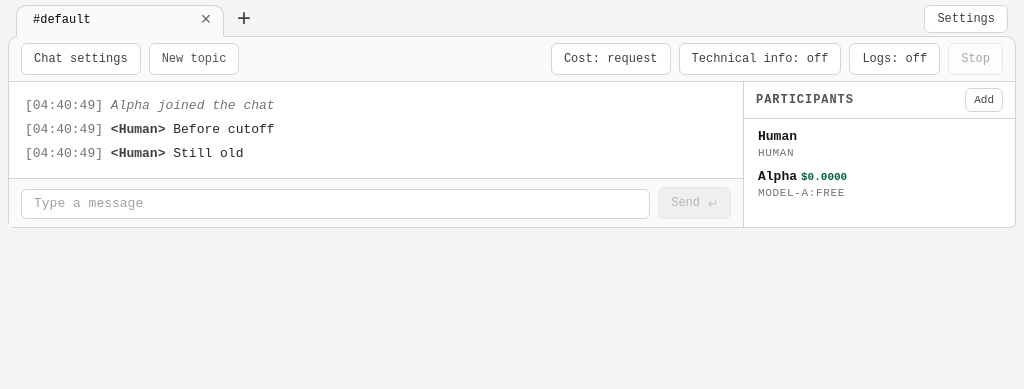
Test case: MultiAgentChat history controls › shows a manual cutoff banner and mutes older messages after reset
Click the button with class "toolbar-button" showing "Technical info: off".
click(760, 59)  # box [678,43,841,75]
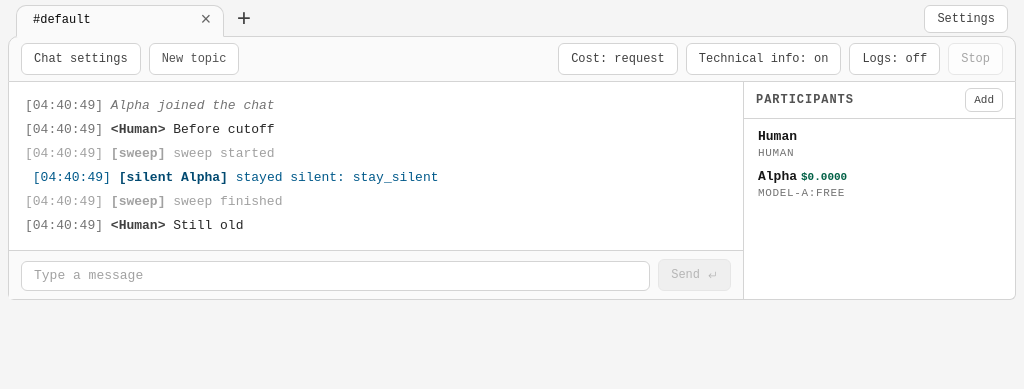
Click the button with class "toolbar-button" showing "New topic".
click(194, 59)  # box [149,43,239,75]
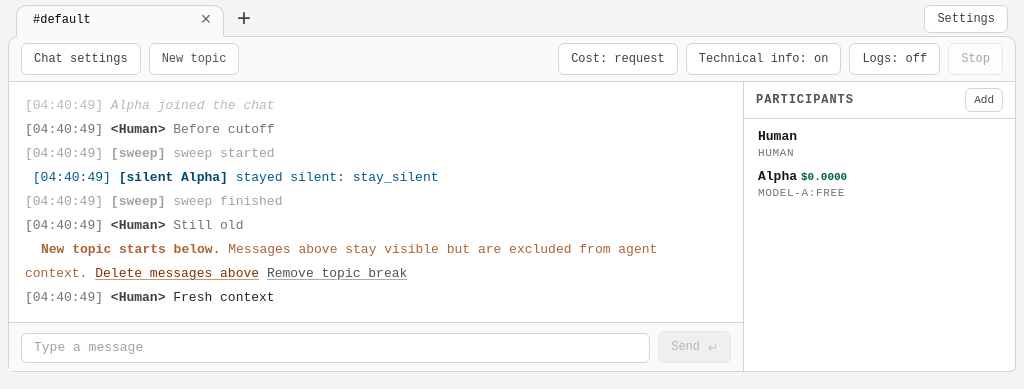
Check: the text "New topic starts below." is shown, box [41,242,220,257]
Check: the text "Delete messages above" is shown, box [95,266,259,281]
Check: the text "Fresh context" is shown, box [173,290,275,305]
